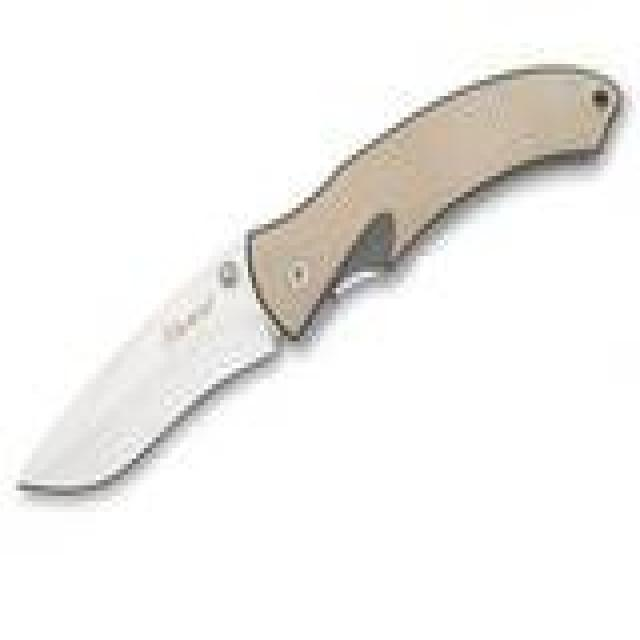Knife: (5, 50, 622, 532)
